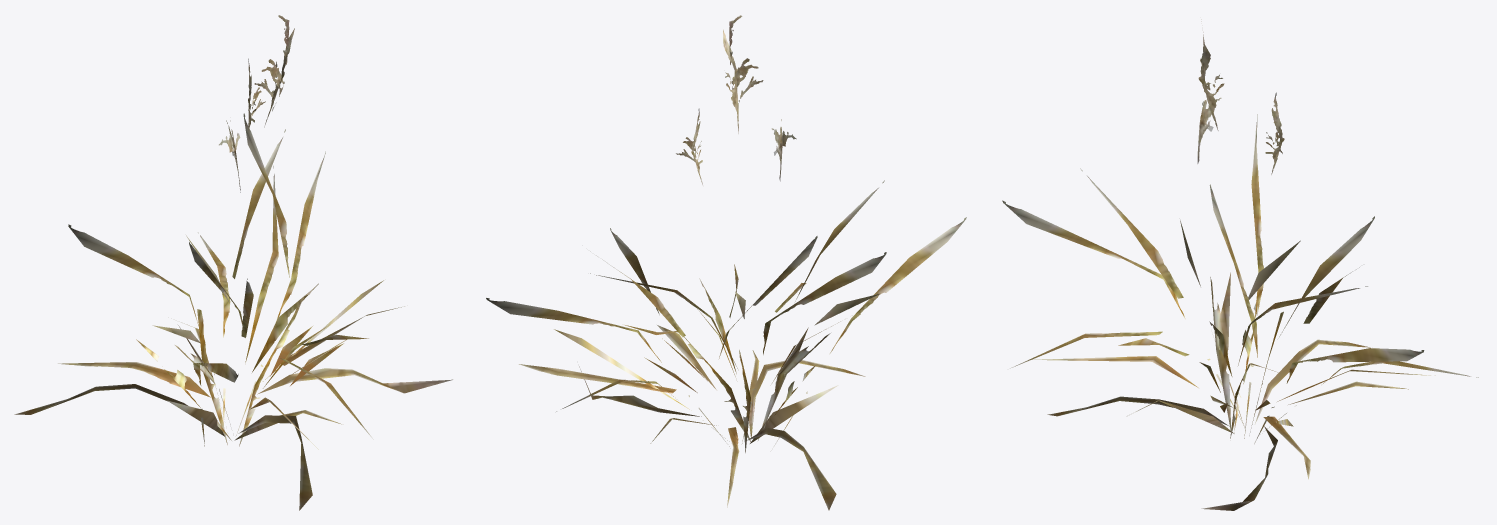
Rendered from co-kho-c.glb.
3 views of the same model, side by side, from view 1: azimuth 30°, elevation 25°; view 2: azimuth 150°, elevation 25°; view 3: azimuth 270°, elevation 25° (orthographic). The views are drawn at different scales.
Parts seen in each view (by area): view 1: grass_medium_01_mid_b_LOD0; view 2: grass_medium_01_mid_b_LOD0; view 3: grass_medium_01_mid_b_LOD0.
Boxes of the visible parts, x1=… form: grass_medium_01_mid_b_LOD0: x1=14, y1=15, x2=452, y2=510; grass_medium_01_mid_b_LOD0: x1=486, y1=15, x2=966, y2=510; grass_medium_01_mid_b_LOD0: x1=1002, y1=19, x2=1478, y2=510.
Bounding box in the file's own units: 0.7674 × 0.8829 × 0.8747.
1 material, 1 textured.
